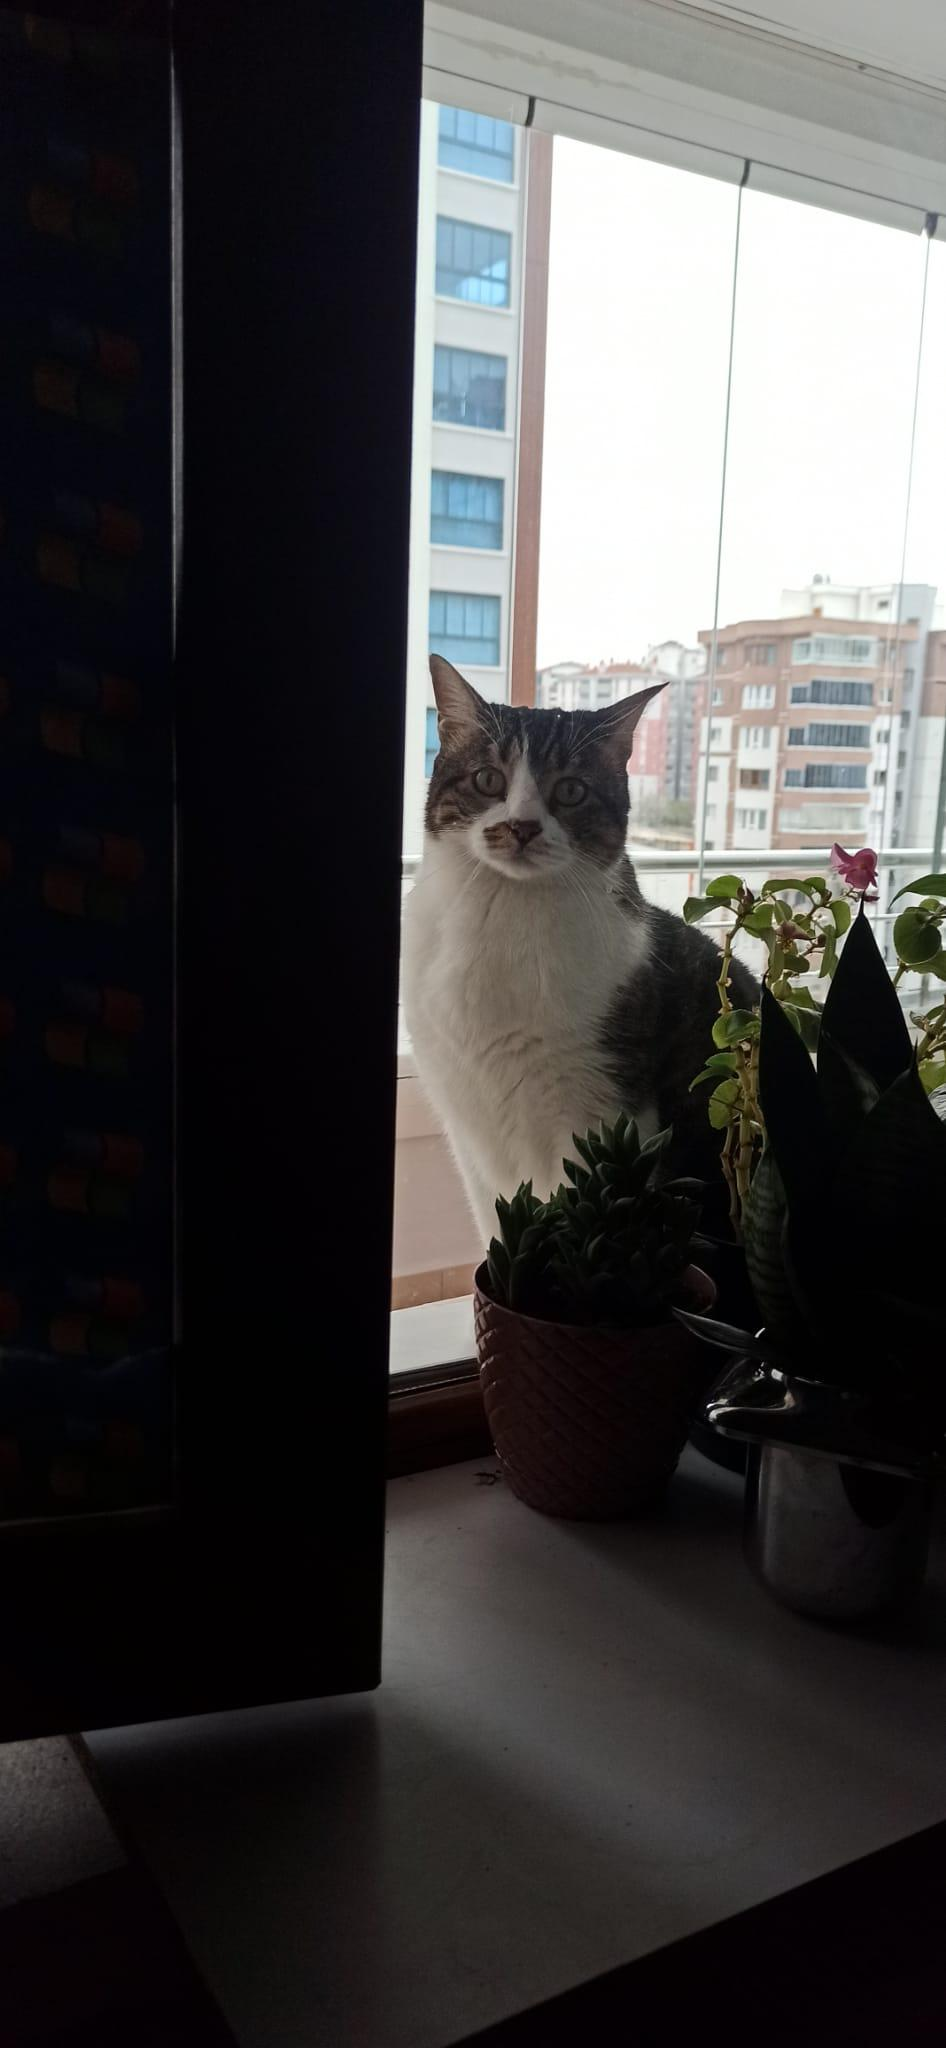kedo: (427, 645, 775, 1110)
